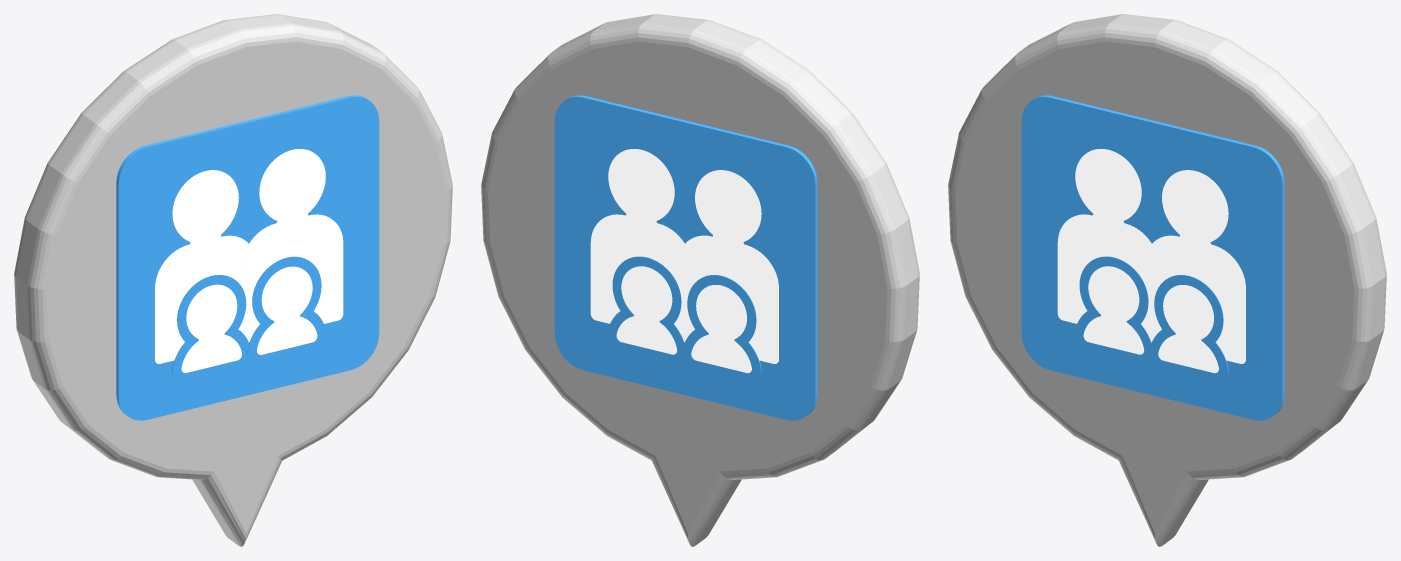
The model's file is man_woman_boy_boy.glb.
3 views of the same model, side by side, from view 1: azimuth 30°, elevation 25°; view 2: azimuth 150°, elevation 25°; view 3: azimuth 330°, elevation 25° (orthographic).
Parts seen in each view (by area): view 1: EmotionBubble; view 2: EmotionBubble; view 3: EmotionBubble.
Part boxes in pixels (x1,y1,x2,y2): EmotionBubble: (14,14,452,546); EmotionBubble: (481,14,919,546); EmotionBubble: (948,14,1386,546).
Size of the model in its own units: 5.29 by 6.16 by 0.706.
